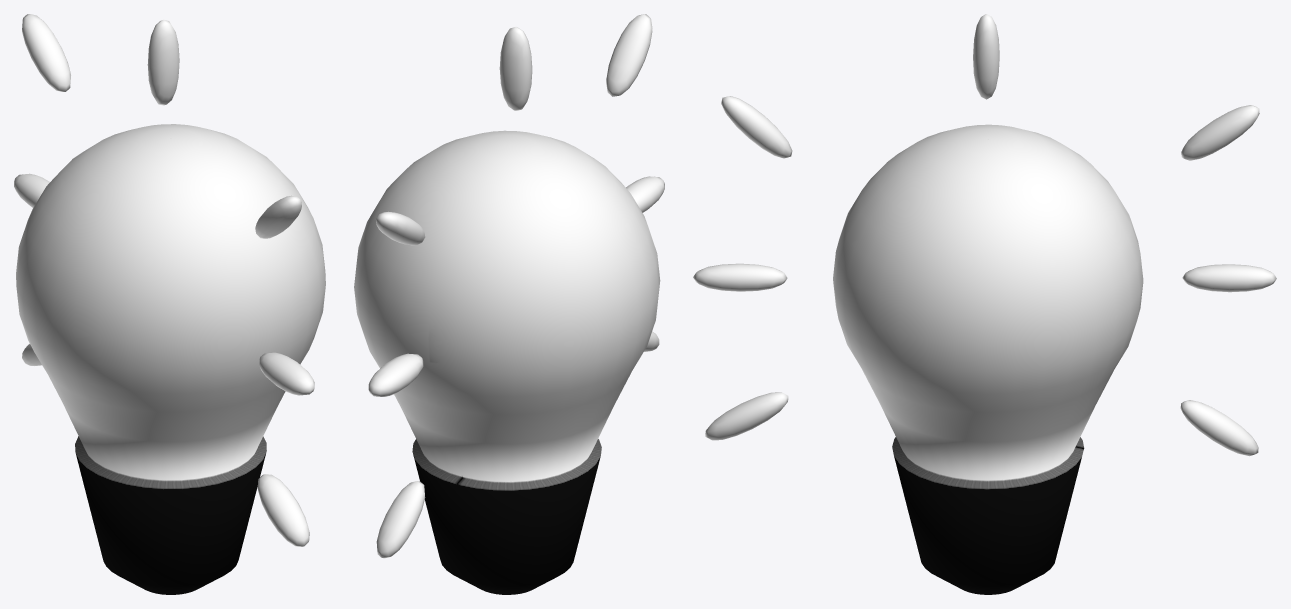
The model's file is glowingBulbNew.fbx.
3 views of the same model, side by side, from view 1: azimuth 30°, elevation 25°; view 2: azimuth 150°, elevation 25°; view 3: azimuth 270°, elevation 25° (orthographic).
Parts seen in each view (by area): view 1: glowingBulb; view 2: glowingBulb; view 3: glowingBulb.
Boxes of the visible parts, bbox=[...] form: glowingBulb: bbox=[14, 14, 325, 594]; glowingBulb: bbox=[354, 14, 664, 594]; glowingBulb: bbox=[693, 14, 1276, 594].
Size of the model in its own units: 2 by 4 by 3.76.
